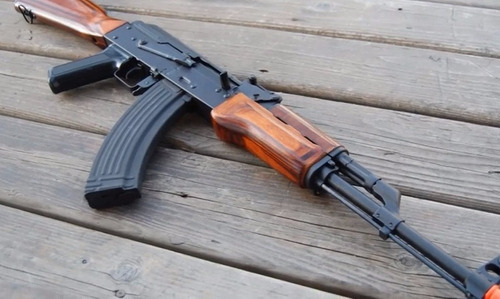Arma Falsa: (9, 1, 500, 297)
